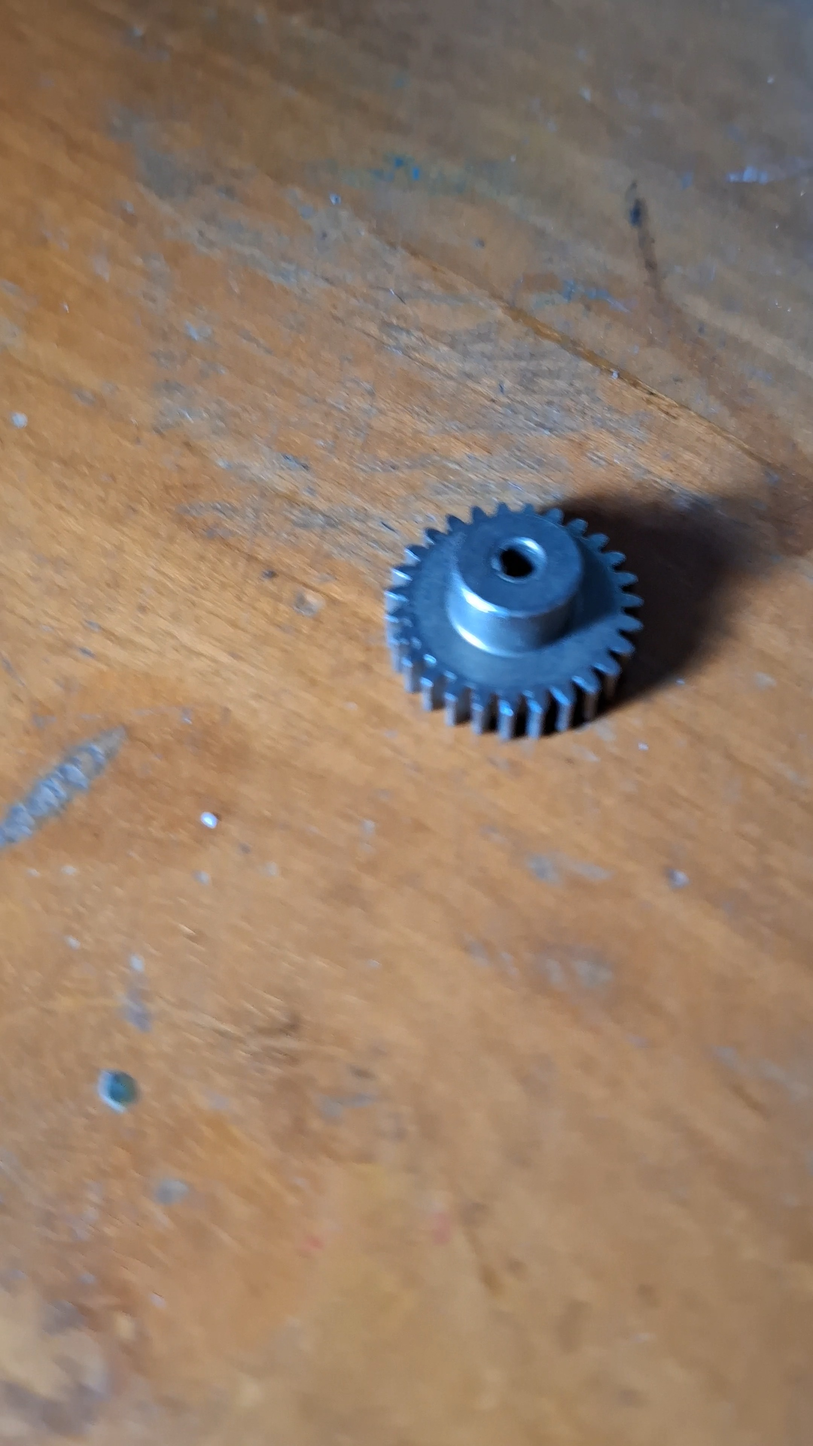spur gear: (386, 504, 641, 738)
